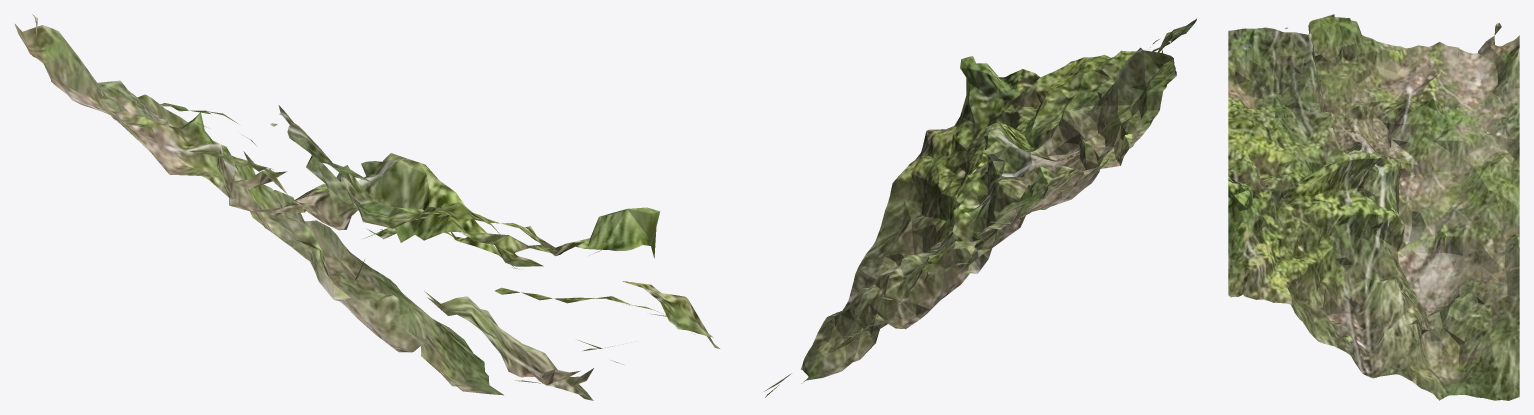
The picture shows the model from 3 angles, left to right: view 1: azimuth 30°, elevation 25°; view 2: azimuth 150°, elevation 25°; view 3: azimuth 270°, elevation 25°; orthographic projection. The views are drawn at different scales.
Bounding box in the file's own units: 2.95 × 2.95 × 2.95.
4 materials, 4 textured.
